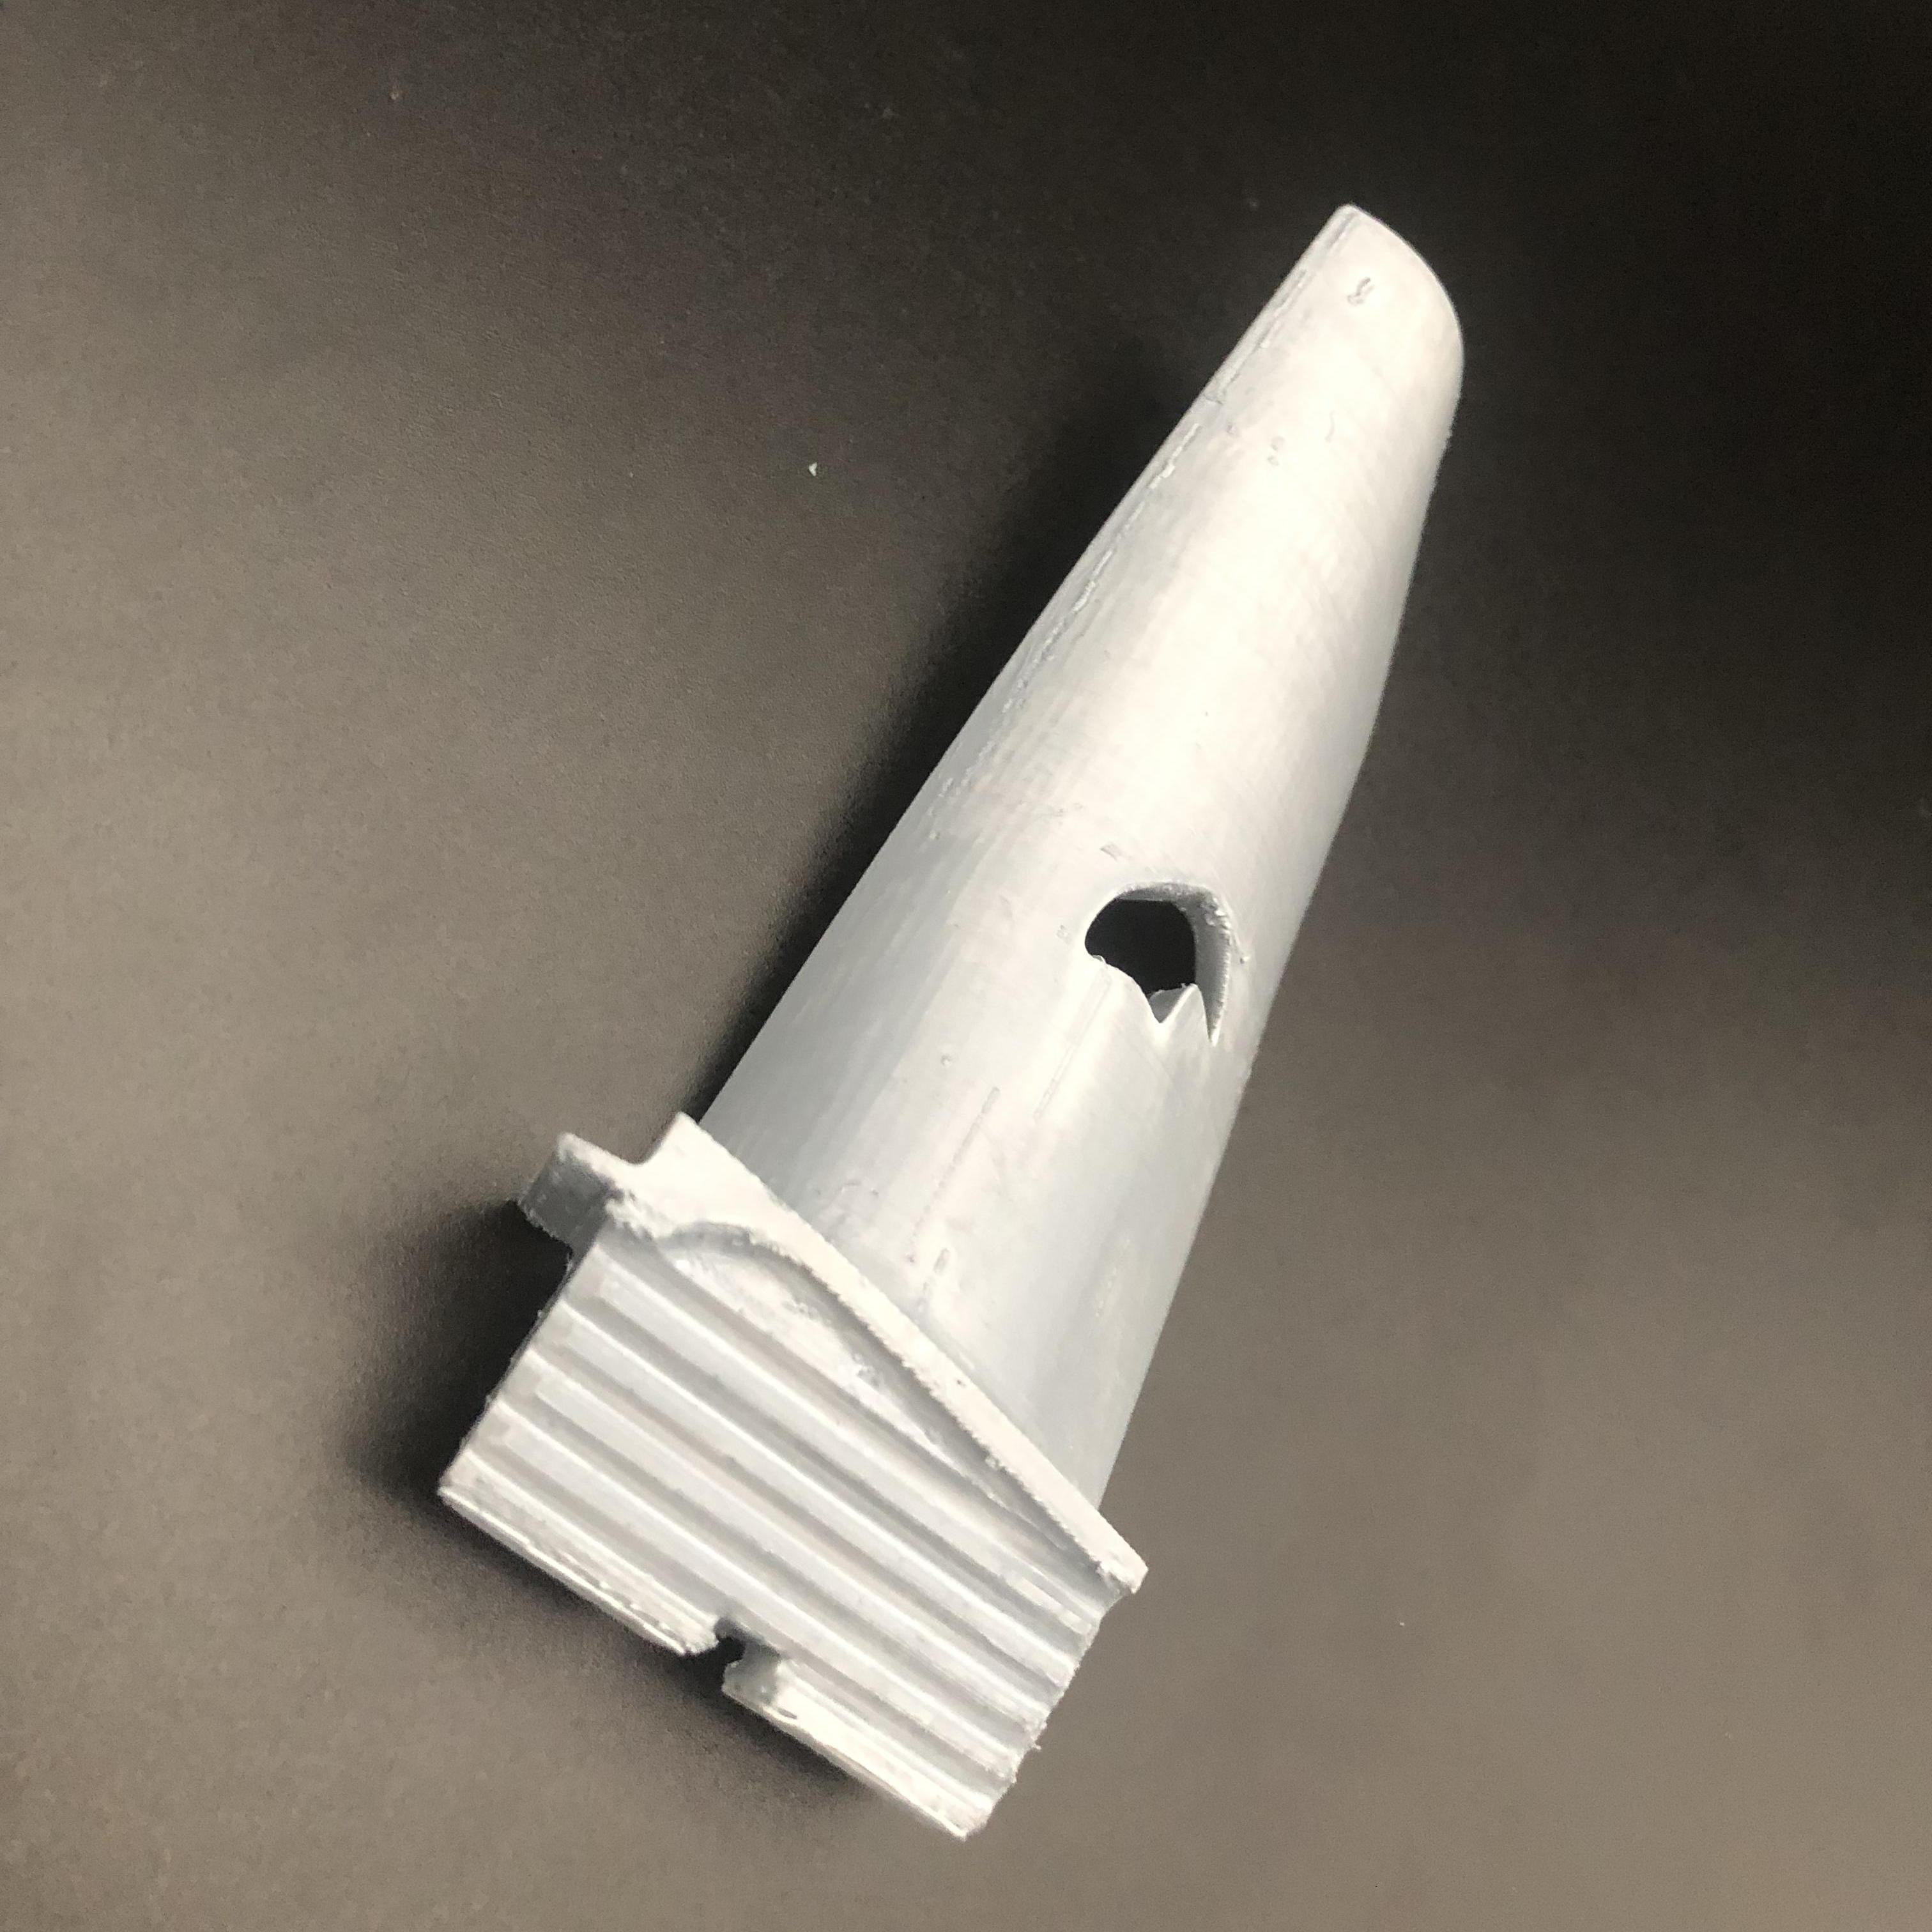breakdown: (1067, 860, 1247, 1042)
